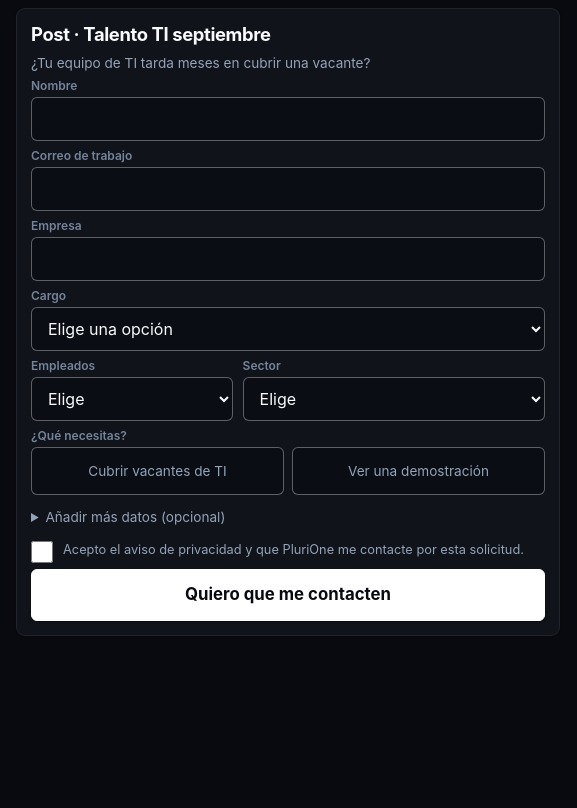
los errores, junto a su campo › el error de un campo se va en cuanto se corrige
The width and height of the screenshot is (577, 808).
Expected: the dropdown labelled "Cargo" is shown, [31, 307, 545, 351]
Click the button "Quiero que me contacten".
click(288, 595)  # box [31, 569, 545, 621]
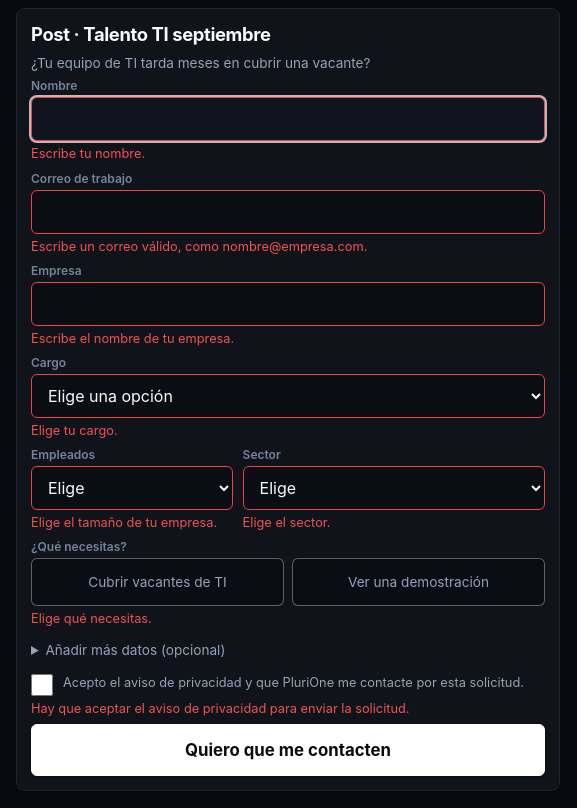
Type "Ana" into the field labelled "Nombre".
click(288, 119); type("Ana")  # box [31, 97, 545, 141]
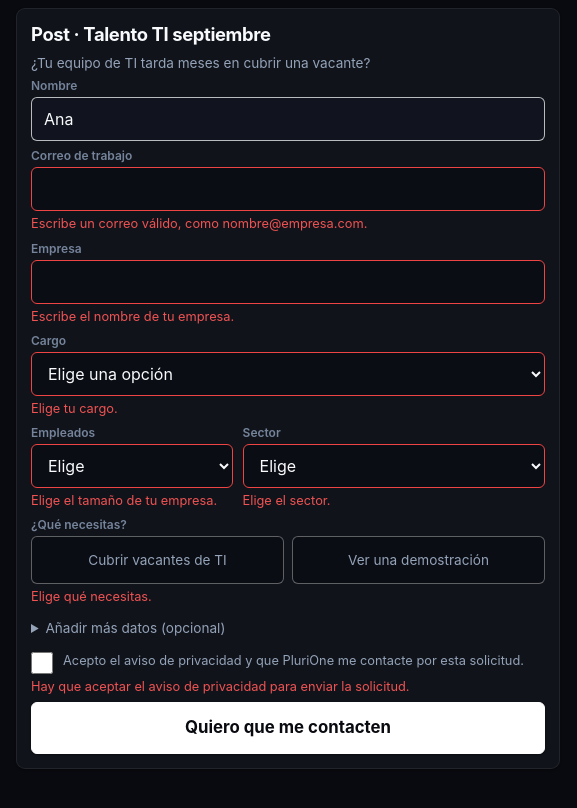
Result: the text "Escribe el nombre de tu empresa." is shown at [31, 308, 234, 324]
Result: the text "Escribe tu nombre." is gone
